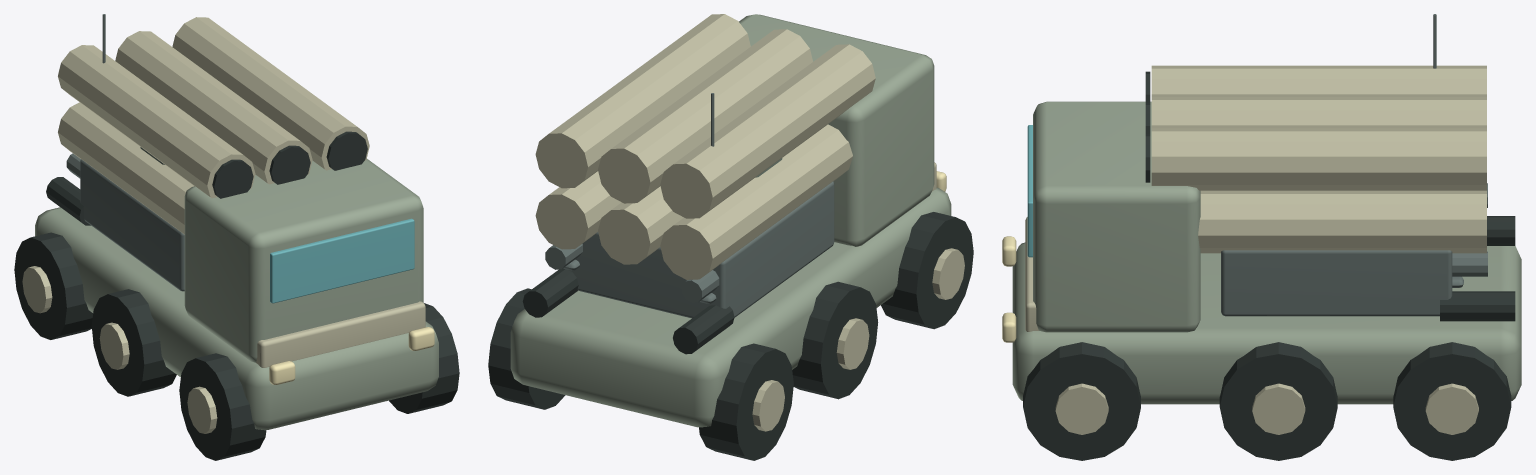
Rendered from rocket.glb.
3 renders of one model, left to right at view 1: azimuth 30°, elevation 25°; view 2: azimuth 150°, elevation 25°; view 3: azimuth 270°, elevation 25°, orthographic. The views are drawn at different scales.
Parts seen in each view (by area): view 1: Chassis, TurretArmor; view 2: Chassis, TurretArmor; view 3: Chassis, TurretArmor.
Part boxes in pixels (left/top/right/bottom): Chassis: left=14, top=14, right=459, bottom=460; TurretArmor: left=58, top=17, right=369, bottom=291; Chassis: left=488, top=14, right=973, bottom=460; TurretArmor: left=535, top=14, right=875, bottom=318; Chassis: left=1002, top=14, right=1521, bottom=460; TurretArmor: left=1145, top=65, right=1486, bottom=316.
Size of the model in its own units: 2.69 by 3.36 by 4.49.
